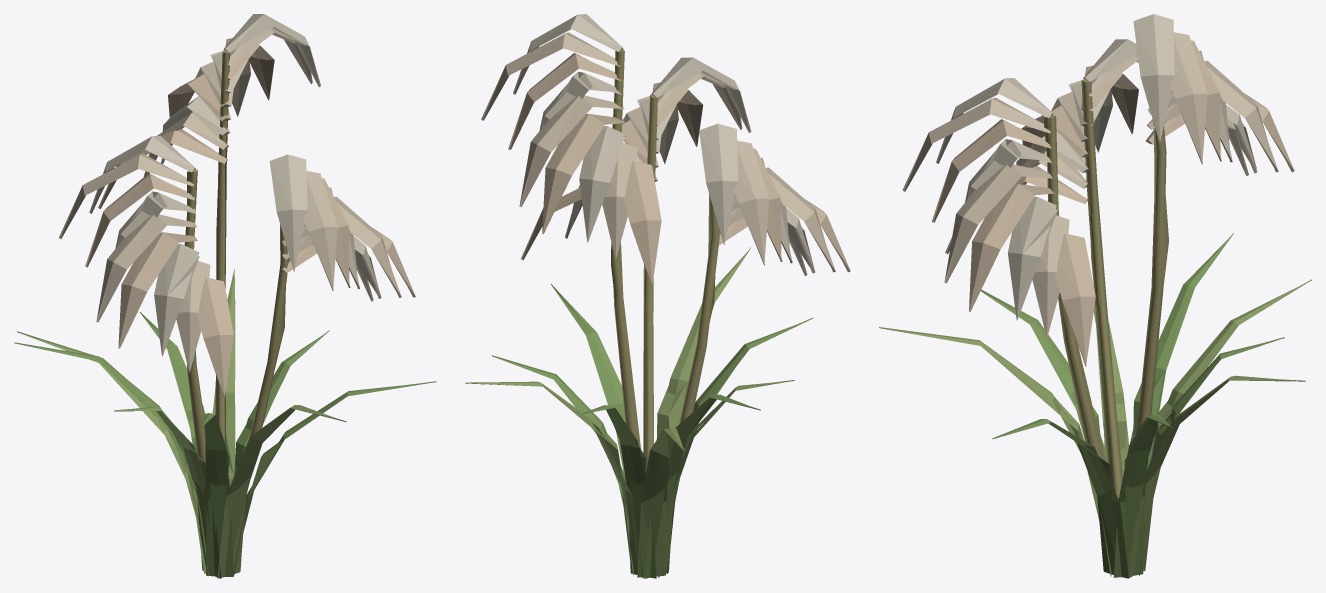
The model's file is silver_grass_b.glb.
3 views of the same model, side by side, from view 1: azimuth 30°, elevation 25°; view 2: azimuth 150°, elevation 25°; view 3: azimuth 270°, elevation 25° (orthographic). The views are drawn at different scales.
Visible parts, largest first — view 1: petal_silver_nl, body__far, leaf_nl, stem; view 2: petal_silver_nl, body__far, leaf_nl, stem; view 3: petal_silver_nl, body__far, leaf_nl, stem.
Boxes of the visible parts, x1,y1,x2,y2 form: petal_silver_nl: (59,14,415,398); body__far: (20,14,402,553); leaf_nl: (14,268,436,578); stem: (184,53,289,494); petal_silver_nl: (481,14,850,286); body__far: (472,15,825,552); leaf_nl: (465,247,813,578); stem: (612,51,719,483); petal_silver_nl: (902,14,1294,366); body__far: (885,14,1291,553); leaf_nl: (879,233,1311,578); stem: (1047,80,1166,498).
Bounding box in the file's own units: 8.27 × 13.53 × 9.03.
